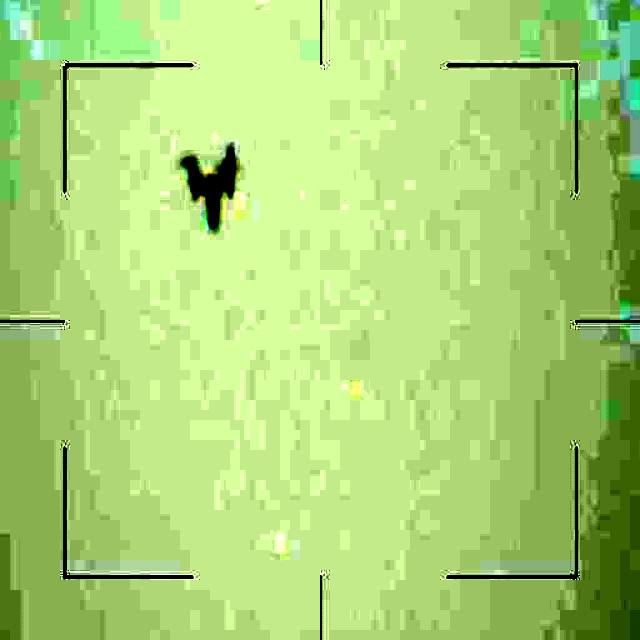bird: (179, 138, 245, 249)
